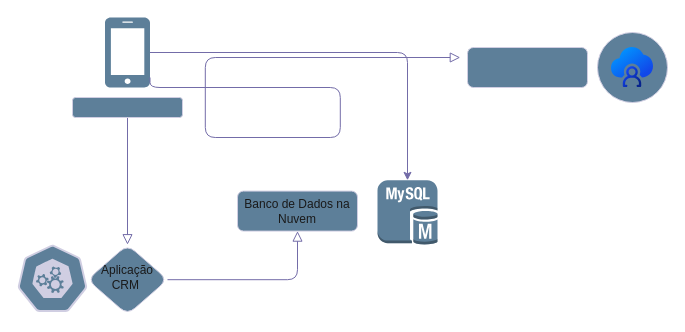
This 685x332 diagram has some shape labels left out. Each missing label, with the centre of its shape:
"Autenticação e Controle de Acesso ." belongs at pixel 527 67.
"Cliente (Usuário)" belongs at pixel 127 107.
